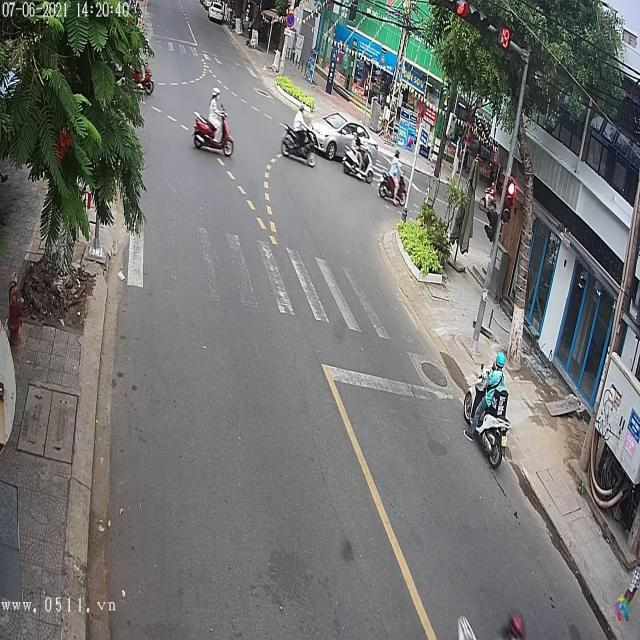car: (307, 114, 360, 162), (209, 4, 227, 23)
motorcycle: (464, 375, 511, 468), (193, 110, 234, 157), (282, 121, 320, 168), (377, 158, 411, 208), (343, 142, 374, 188)
